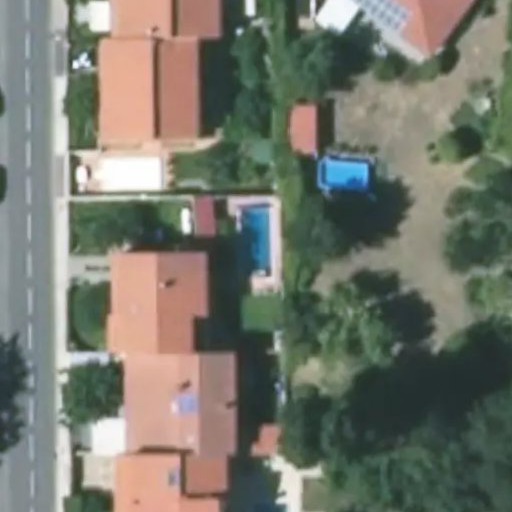pool: (236, 206, 275, 277)
